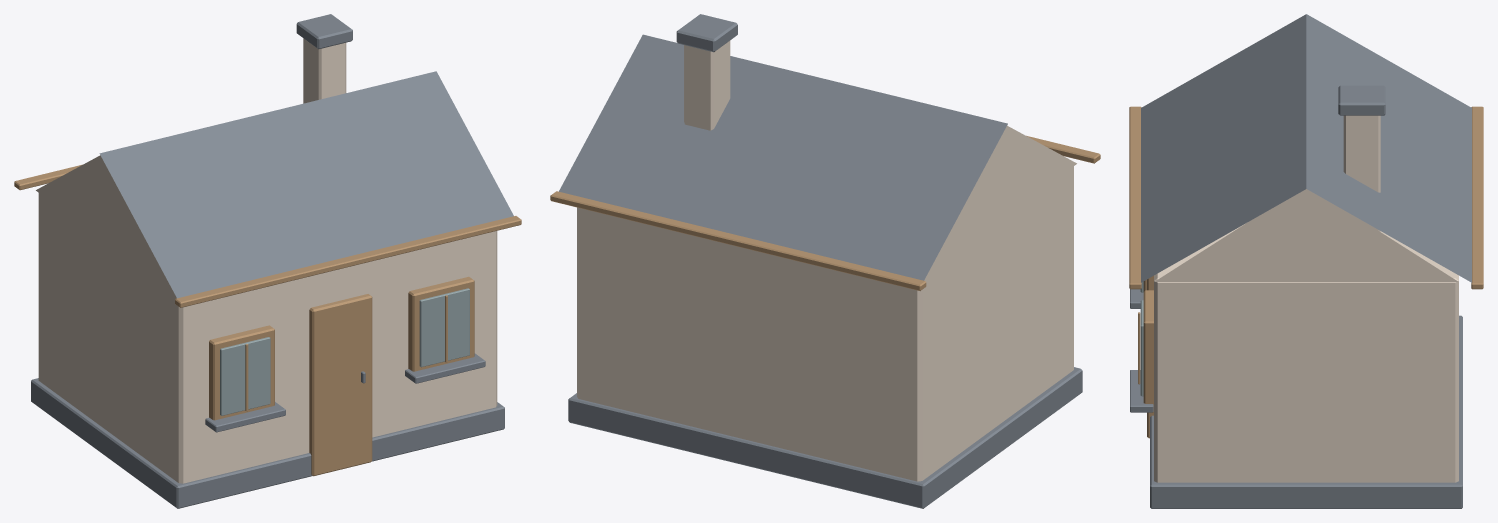
Rendered from house-lowpoly.glb.
3 renders of one model, left to right at view 1: azimuth 30°, elevation 25°; view 2: azimuth 150°, elevation 25°; view 3: azimuth 270°, elevation 25°, orthographic. The views are drawn at different scales.
Visible parts, largest first — view 1: house-lowpoly; view 2: house-lowpoly; view 3: house-lowpoly.
Boxes of the visible parts, box(x1,y1,x2,y2) form: house-lowpoly: box(14, 14, 521, 508); house-lowpoly: box(550, 14, 1100, 508); house-lowpoly: box(1129, 14, 1483, 508).
Size of the model in its own units: 4.08 by 4 by 3.44.
